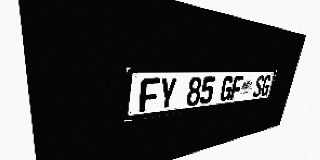5: (199, 77, 216, 104)
8: (186, 77, 203, 106)
F: (139, 78, 160, 113), (229, 76, 244, 100)
G: (219, 76, 234, 102), (260, 75, 272, 96)
S: (252, 75, 265, 97)
Y: (158, 77, 177, 110)
